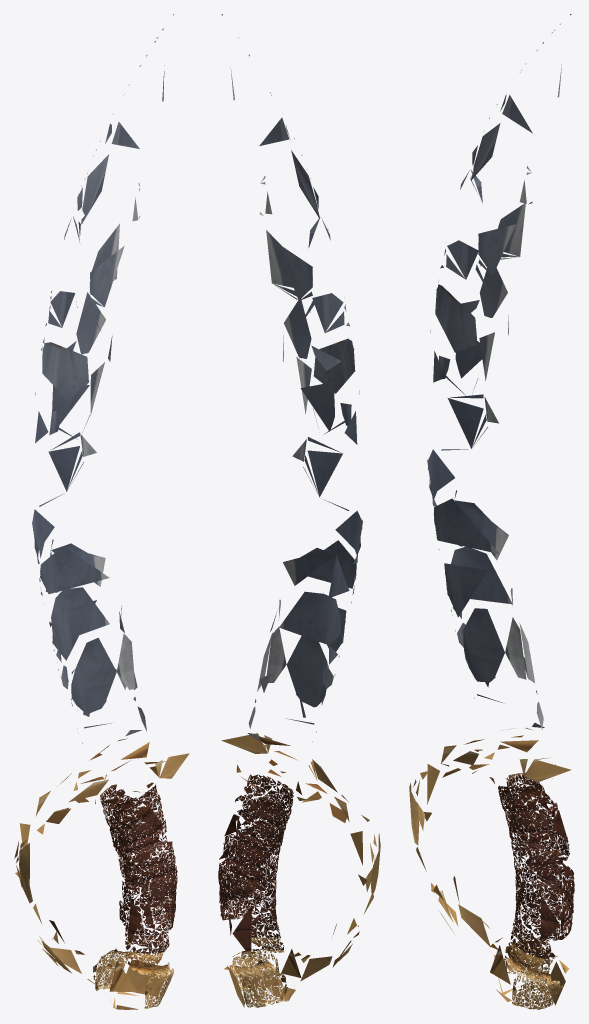
The model's file is saber.glb.
3 views of the same model, side by side, from view 1: azimuth 30°, elevation 25°; view 2: azimuth 150°, elevation 25°; view 3: azimuth 330°, elevation 25° (orthographic).
Visible parts, largest first — view 1: node_0; view 2: node_0; view 3: node_0.
Boxes of the visible parts, <box> form: node_0: <box>14,14,189,1009</box>; node_0: <box>218,14,380,1007</box>; node_0: <box>409,14,574,1009</box>.
Size of the model in its own units: 0.1674 by 0.95 by 0.0548.
1 material, 1 textured.
